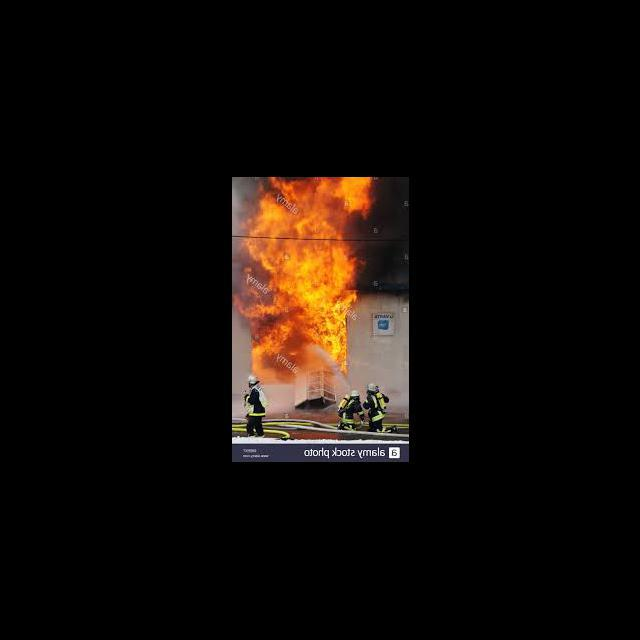Fire: (234, 178, 373, 384)
